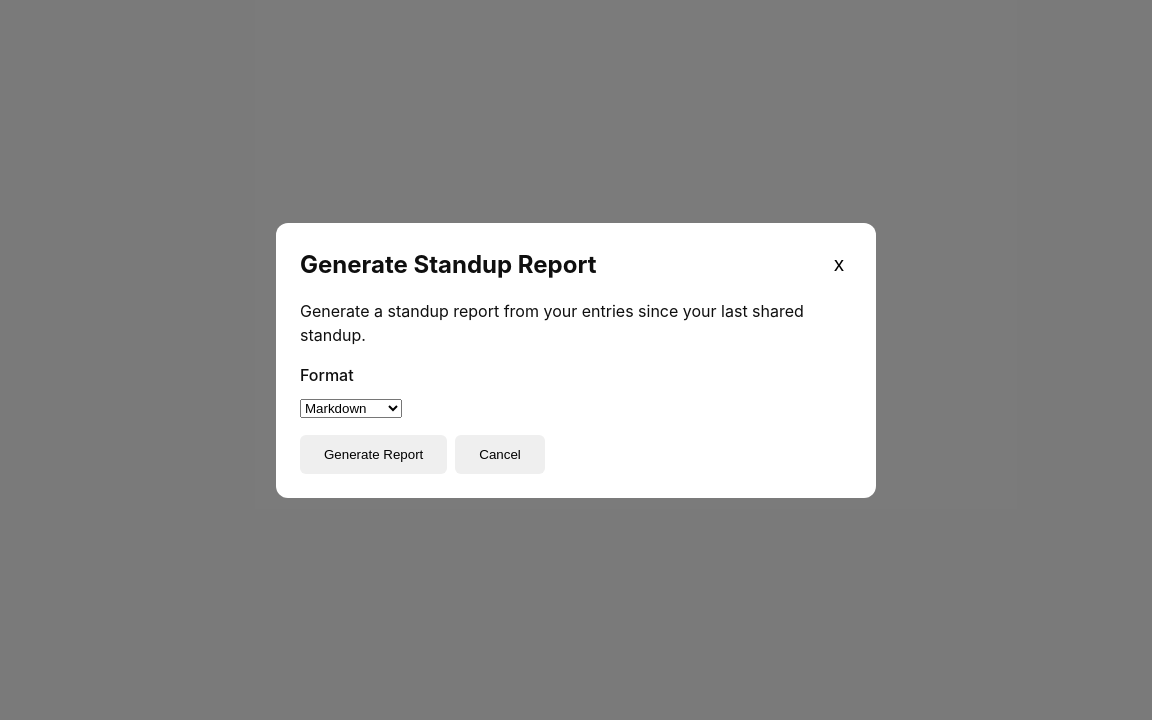
Test: StandupReport › shows entry count in report view
Click the button "Generate Report" at (374, 454), box [300,434,447,474]
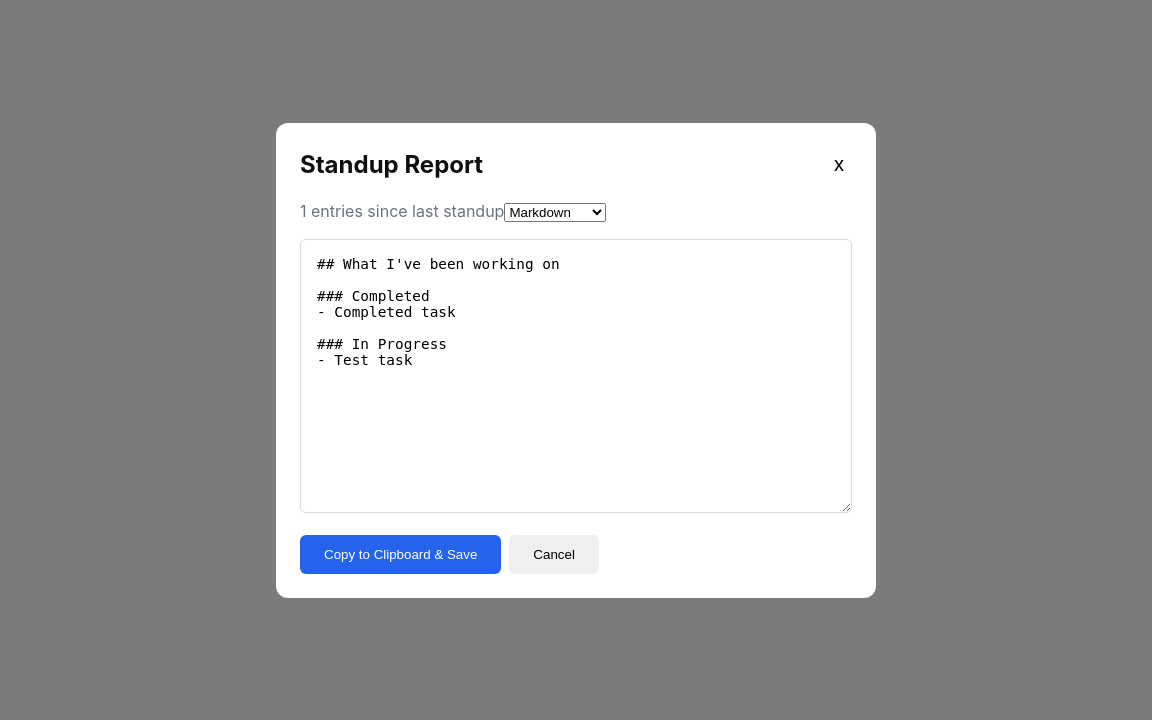
Check: the text "1 entries since last standup" is shown, box [300,200,504,220]
